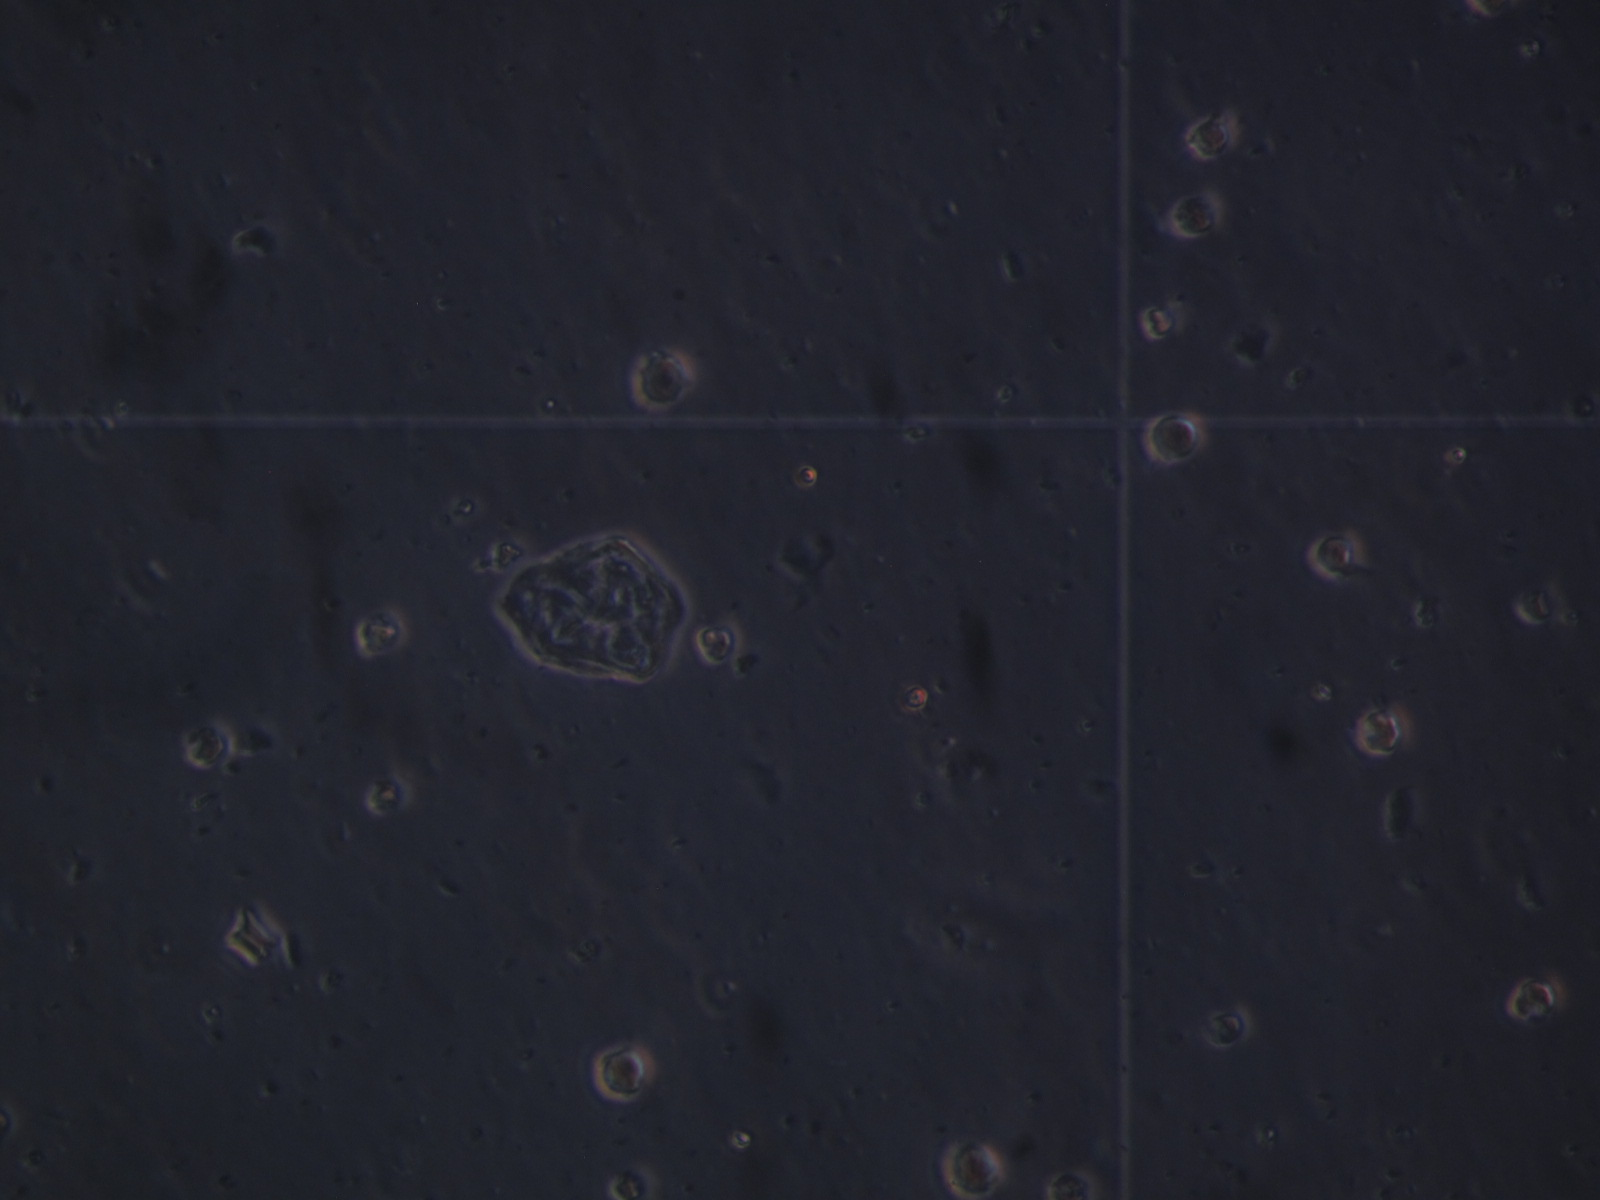hemo: (630, 344, 697, 413), (593, 1041, 656, 1104), (1140, 408, 1209, 464), (944, 1139, 1005, 1200), (1356, 705, 1412, 759), (357, 605, 409, 659), (184, 715, 236, 770), (1308, 531, 1366, 579), (1186, 111, 1241, 160), (1506, 976, 1565, 1021), (1172, 190, 1225, 238), (1201, 1003, 1254, 1049), (695, 621, 745, 667), (364, 773, 413, 817), (1042, 1168, 1097, 1200), (1143, 303, 1186, 340), (609, 1167, 658, 1200)
